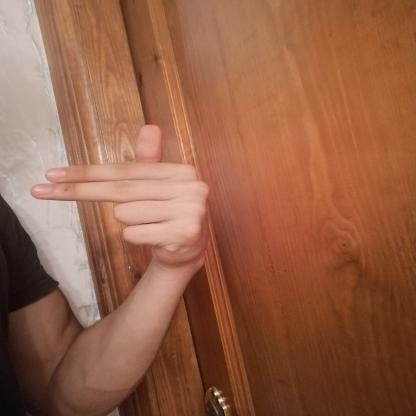GHAYN: (16, 116, 228, 270)
